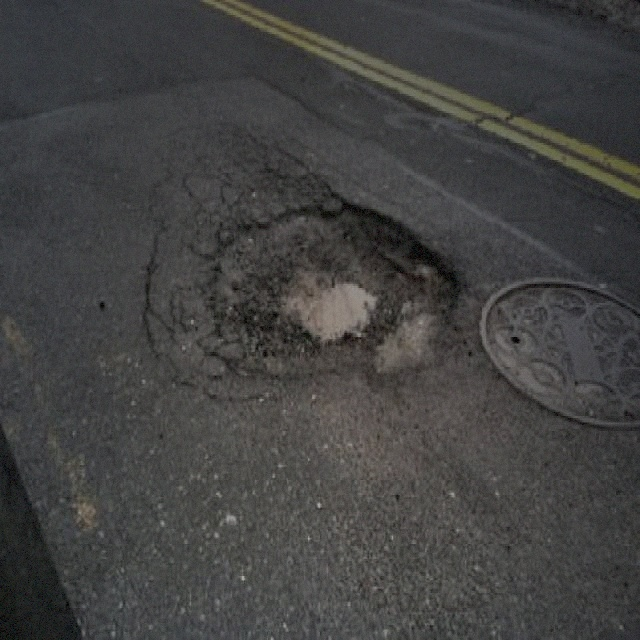pothole: (202, 194, 458, 378)
